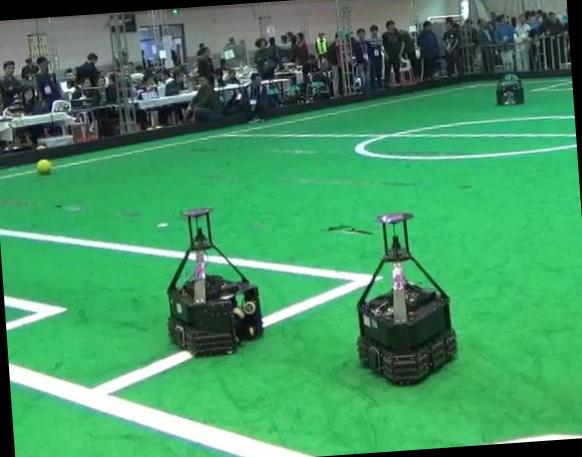ball: (36, 158, 51, 173)
robot: (357, 211, 455, 383), (168, 207, 262, 353), (496, 73, 525, 105)
